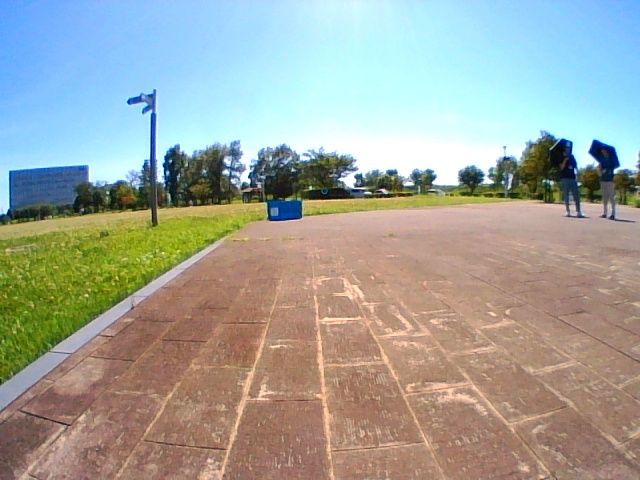blue_box: (268, 200, 302, 221)
tag: (270, 207, 277, 216)
